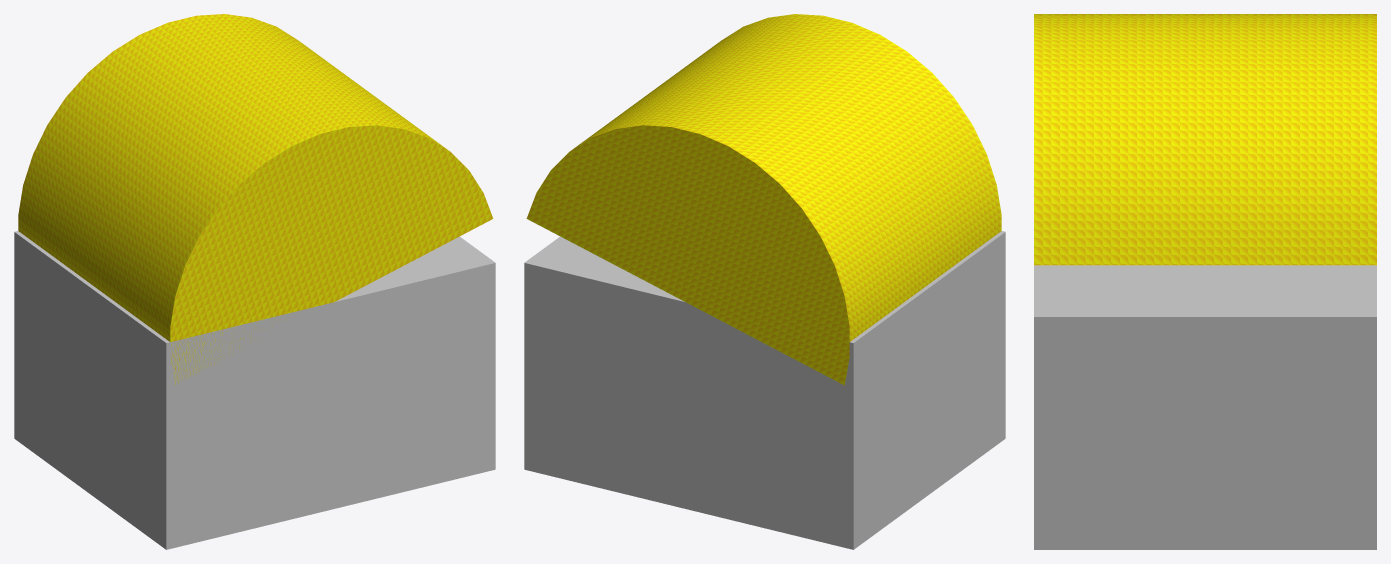
The model's file is Takarabako.fbx.
3 views of the same model, side by side, from view 1: azimuth 30°, elevation 25°; view 2: azimuth 150°, elevation 25°; view 3: azimuth 270°, elevation 25° (orthographic). The views are drawn at different scales.
Visible parts, largest first — view 1: Box001, Cylinder002; view 2: Cylinder002, Box001; view 3: Box001, Cylinder002.
Part boxes in pixels (x1=…): Box001: x1=14, y1=231, x2=495, y2=549; Cylinder002: x1=18, y1=14, x2=493, y2=384; Cylinder002: x1=526, y1=14, x2=1001, y2=385; Box001: x1=524, y1=231, x2=1005, y2=549; Box001: x1=1034, y1=265, x2=1376, y2=549; Cylinder002: x1=1034, y1=14, x2=1376, y2=265.
Size of the model in its own units: 50 by 40 by 54.9.
